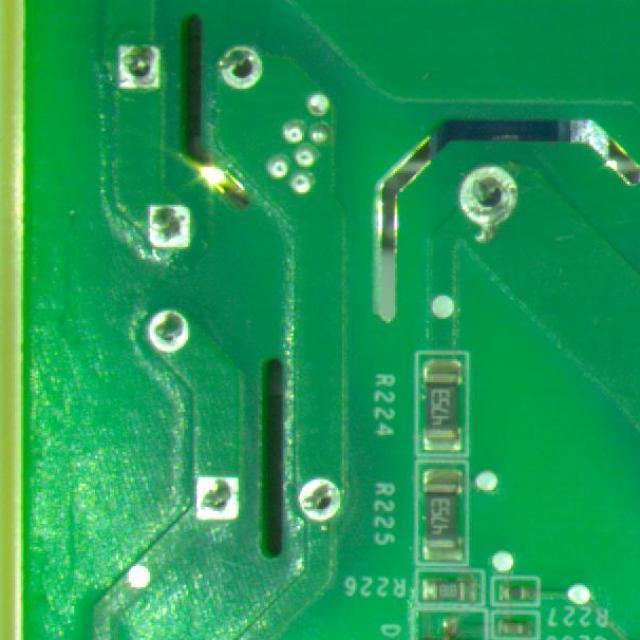Insufficient solder: (172, 455, 249, 532), (452, 164, 528, 238), (290, 468, 353, 534), (108, 32, 164, 98), (140, 298, 198, 358), (137, 198, 203, 250), (214, 40, 268, 93)
